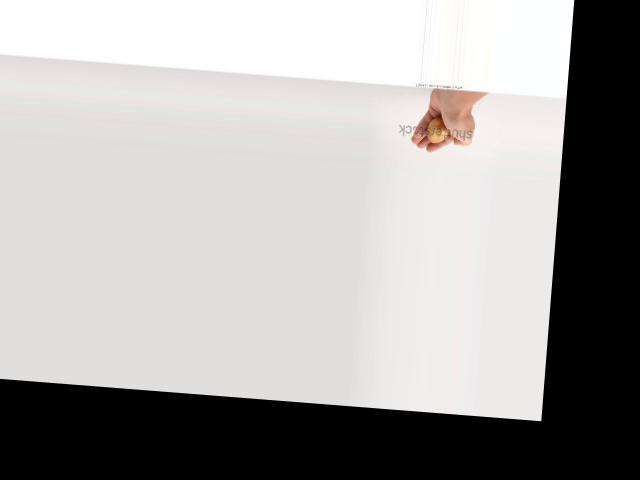egg: (426, 116, 448, 143)
